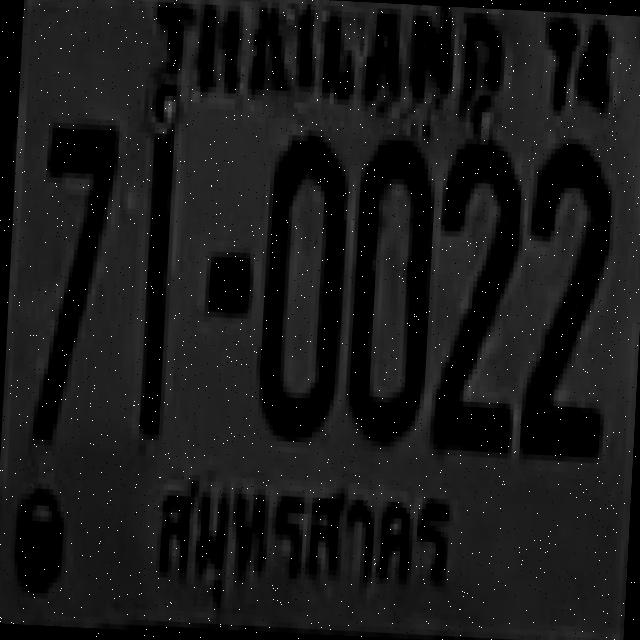0: (254, 131, 348, 436), (344, 136, 434, 440)
2: (520, 140, 616, 422), (431, 137, 524, 420), (429, 186, 522, 448), (432, 138, 524, 398), (518, 202, 613, 452)
7: (29, 119, 116, 440), (32, 119, 118, 418)
SamutSakhon: (134, 461, 470, 629)
